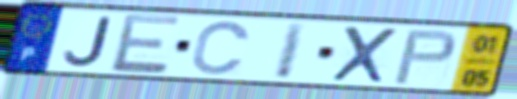C: (188, 19, 254, 77)
E: (108, 12, 183, 75)
I: (271, 20, 311, 81)
J: (61, 15, 114, 69)
P: (389, 28, 458, 86)
X: (328, 23, 401, 85)
